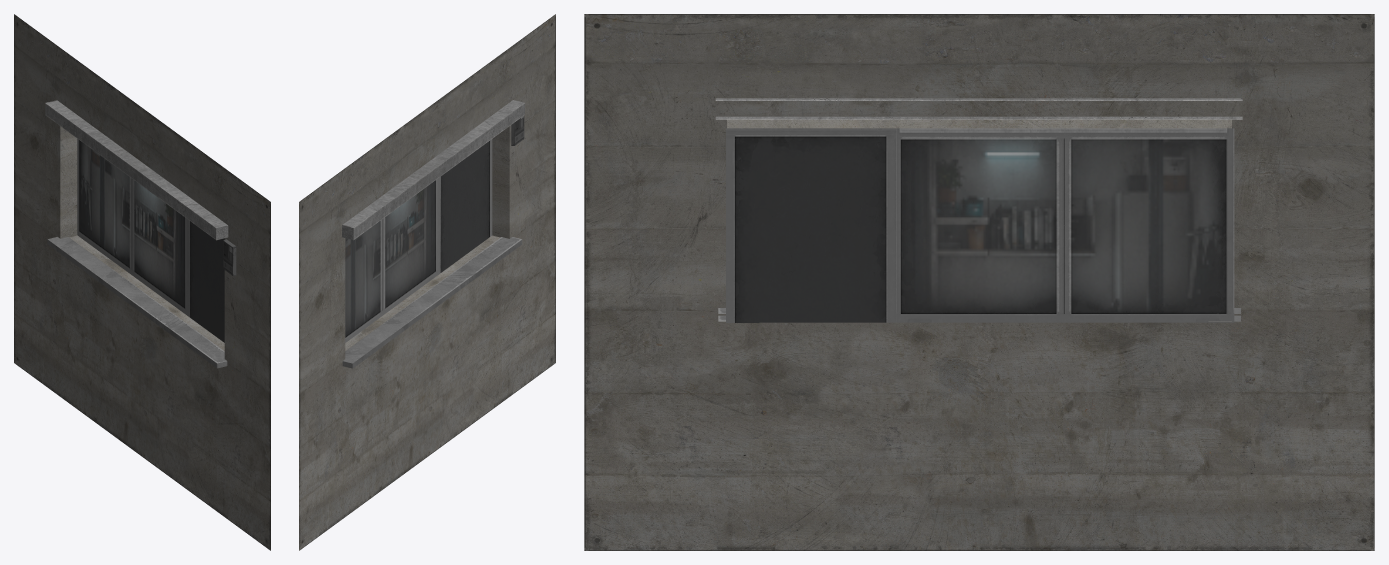
Rendered from CP_Windows_B_4x3m_09.fbx.
The picture shows the model from 3 angles, left to right: view 1: azimuth 30°, elevation 25°; view 2: azimuth 150°, elevation 25°; view 3: azimuth 270°, elevation 25°; orthographic projection. The views are drawn at different scales.
Parts seen in each view (by area): view 1: CP_Windows_B_4x3m_09; view 2: CP_Windows_B_4x3m_09; view 3: CP_Windows_B_4x3m_09.
Boxes of the visible parts, x1=… form: CP_Windows_B_4x3m_09: x1=14, y1=14, x2=270, y2=550; CP_Windows_B_4x3m_09: x1=299, y1=14, x2=555, y2=550; CP_Windows_B_4x3m_09: x1=584, y1=14, x2=1374, y2=550.
Bounding box in the file's own units: 26.19 × 300 × 400.
